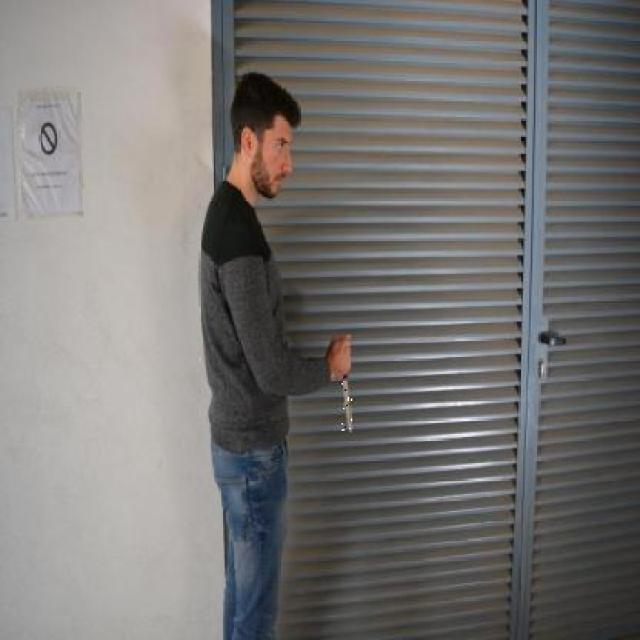knife: (342, 377, 352, 432)
